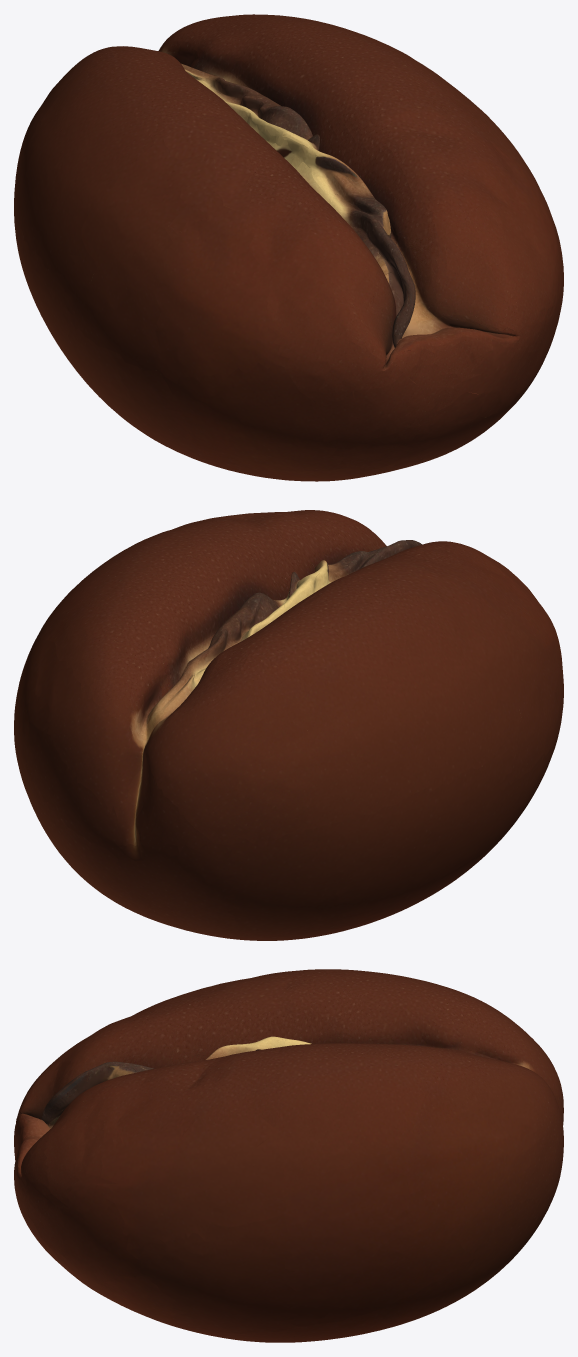
The model's file is grano-v1.glb.
3 renders of one model, top to bottom at view 1: azimuth 30°, elevation 25°; view 2: azimuth 150°, elevation 25°; view 3: azimuth 270°, elevation 25°, orthographic. The views are drawn at different scales.
Bounding box in the file's own units: 1.52 × 1.15 × 1.9.
1 material, 1 textured.
